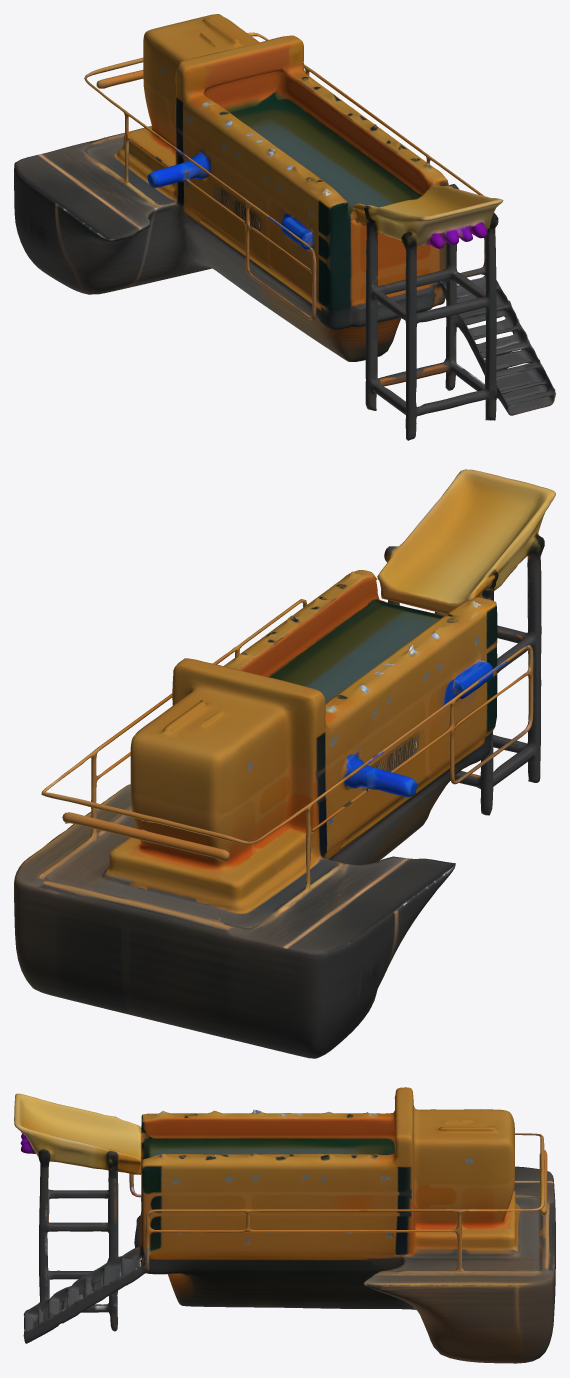
The model's file is ECS_Premium_base_basic_pbr.fbx.
3 views of the same model, one above another, from view 1: azimuth 30°, elevation 25°; view 2: azimuth 150°, elevation 25°; view 3: azimuth 270°, elevation 25° (orthographic). The views are drawn at different scales.
Visible parts, largest first — view 1: model; view 2: model; view 3: model.
Boxes of the visible parts, bbox=[...] form: model: bbox=[14, 14, 555, 440]; model: bbox=[14, 469, 555, 1058]; model: bbox=[14, 1087, 555, 1363].
Size of the model in its own units: 99.09 by 82.85 by 190.
1 material, 1 textured.
